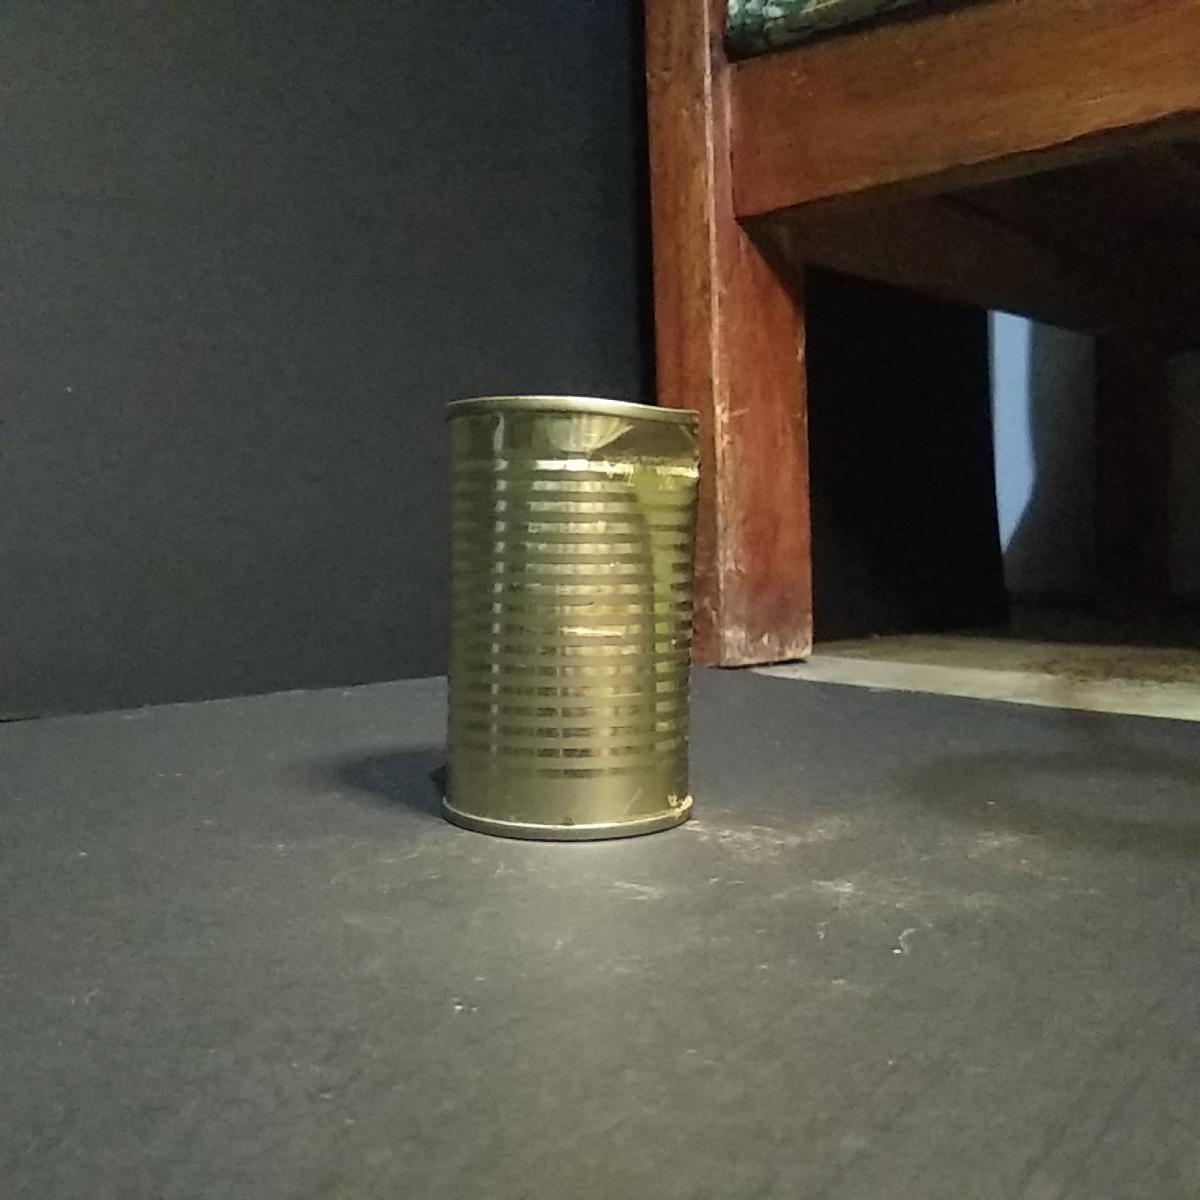Dented: (426, 380, 720, 860)
